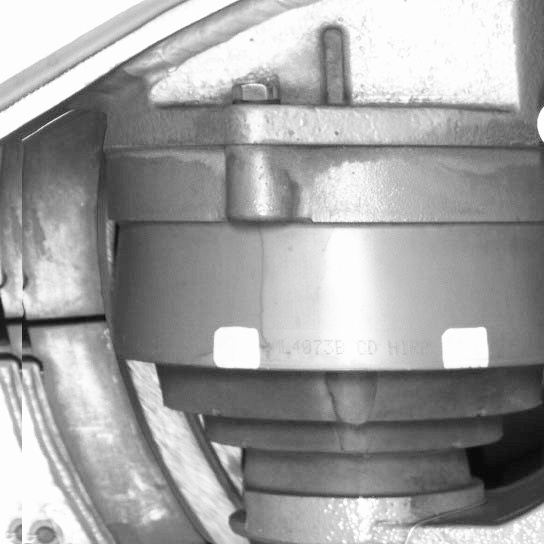ClosedKnifeSwitch: (24, 149, 223, 541)
